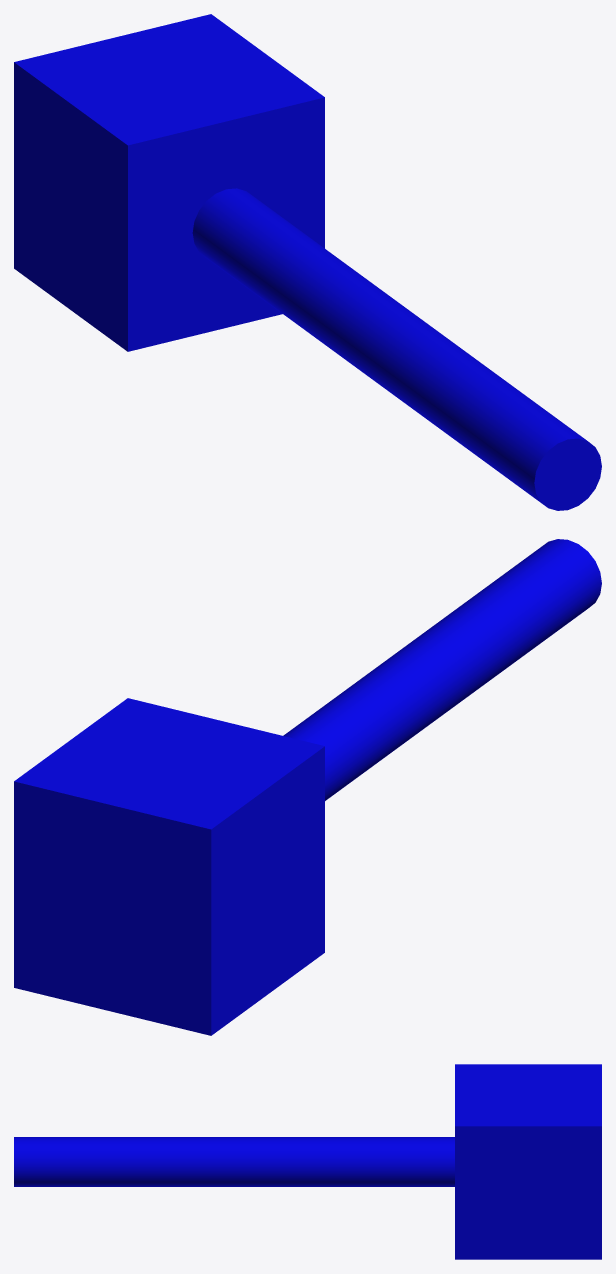
The model's file is Z_Pinch.fbx.
The picture shows the model from 3 angles, top to bottom: view 1: azimuth 30°, elevation 25°; view 2: azimuth 150°, elevation 25°; view 3: azimuth 270°, elevation 25°; orthographic projection. The views are drawn at different scales.
Parts seen in each view (by area): view 1: pCube2; view 2: pCube2; view 3: pCube2.
Part boxes in pixels (x1,y1,x2,y2): pCube2: (14,14,601,510); pCube2: (14,539,601,1035); pCube2: (14,1064,601,1259).
Size of the model in its own units: 1 by 1 by 4.
